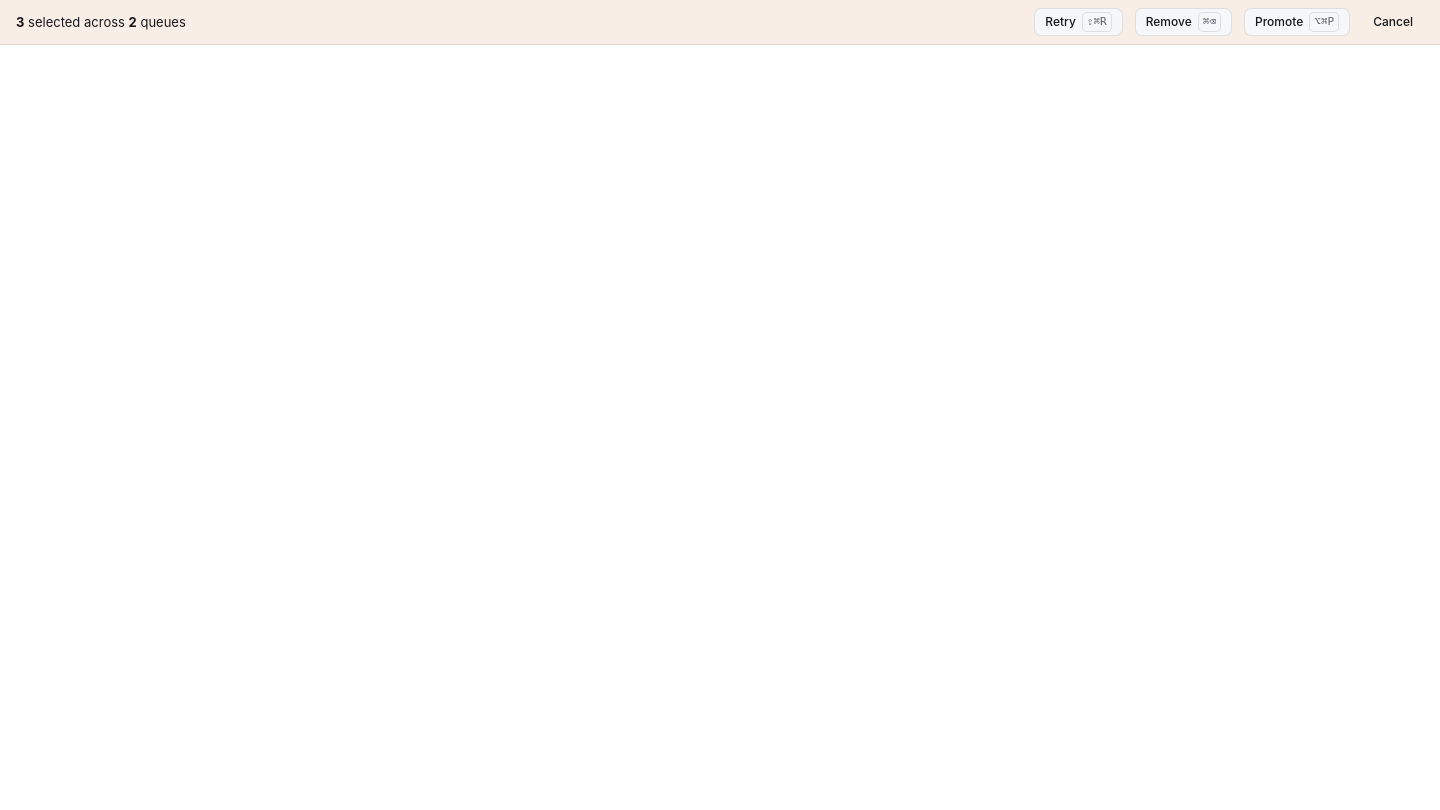
Test: BulkActionBar: cross-queue (K>1) paths › consolidates the message when ALL queues fail with connectionLocked
Click the button with test id "bulk-action-retry".
click(1078, 22)  # box left=1034, top=8, right=1123, bottom=36
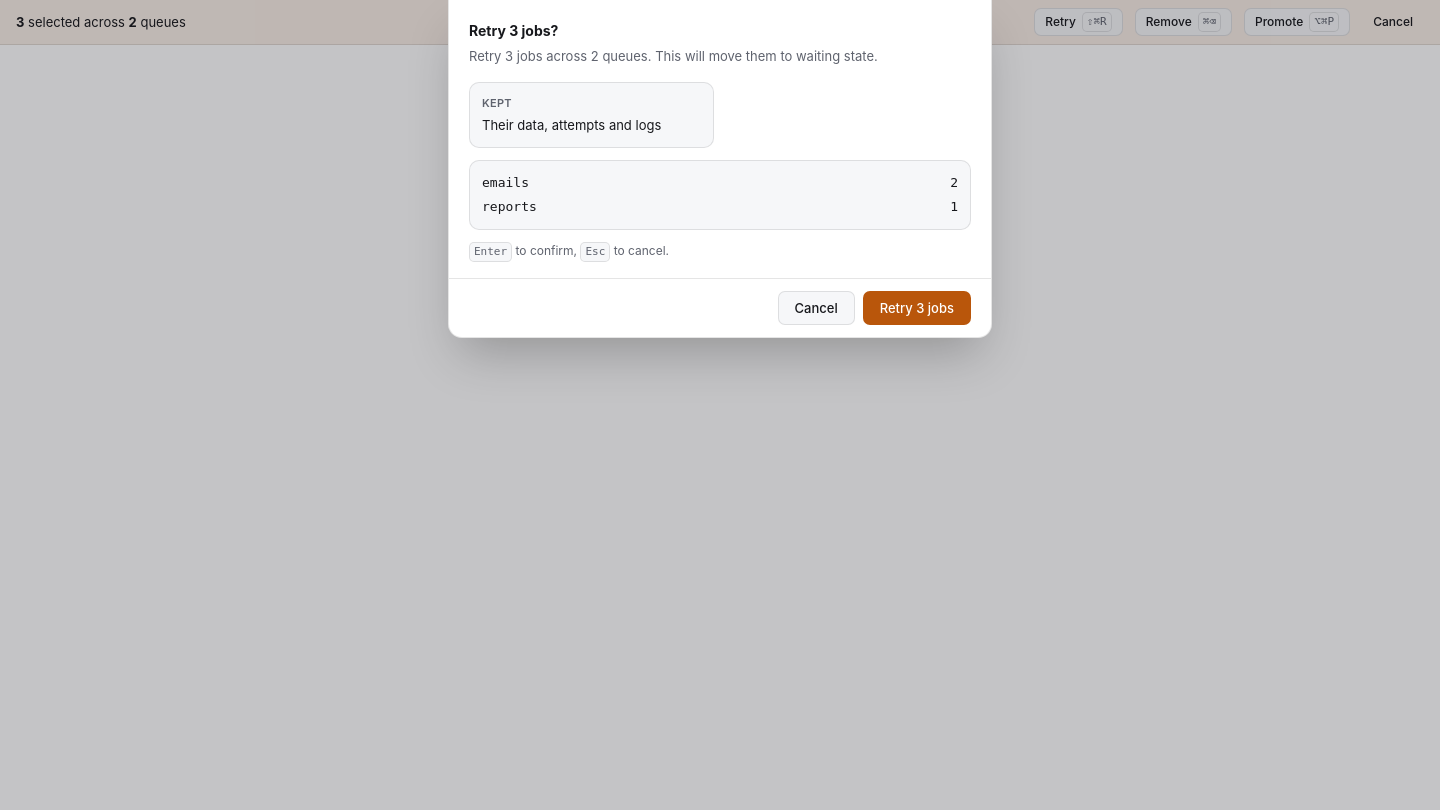
Click the button with test id "bulk-action-bar-execute".
click(917, 308)  # box left=863, top=291, right=971, bottom=325
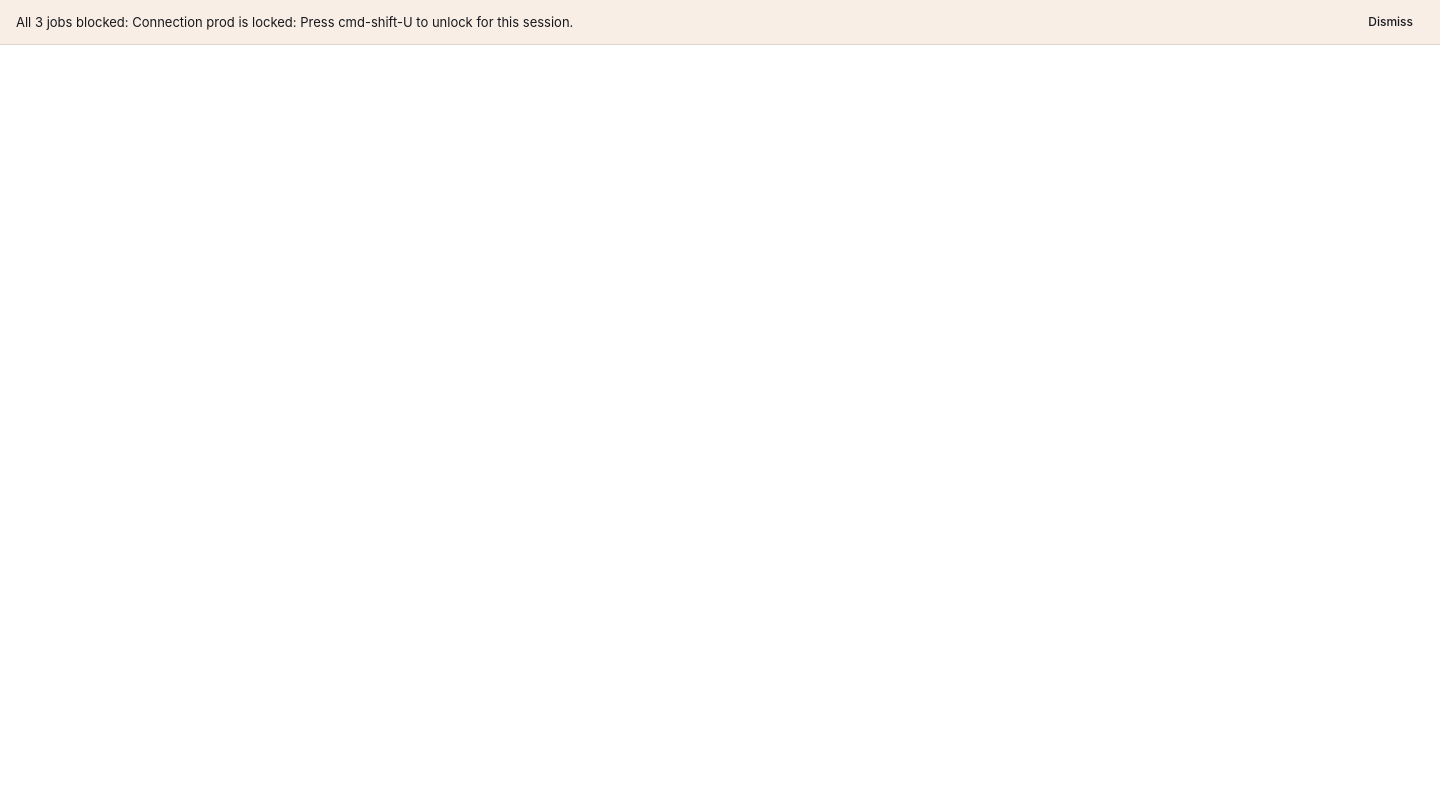
Expected: the text with test id "bulk-action-bar-complete-locked" shows "All 3 jobs blocked", left=16, top=14, right=573, bottom=30
Expected: the text with test id "bulk-action-bar-complete-locked" shows "cmd-shift-U", left=132, top=14, right=573, bottom=30
